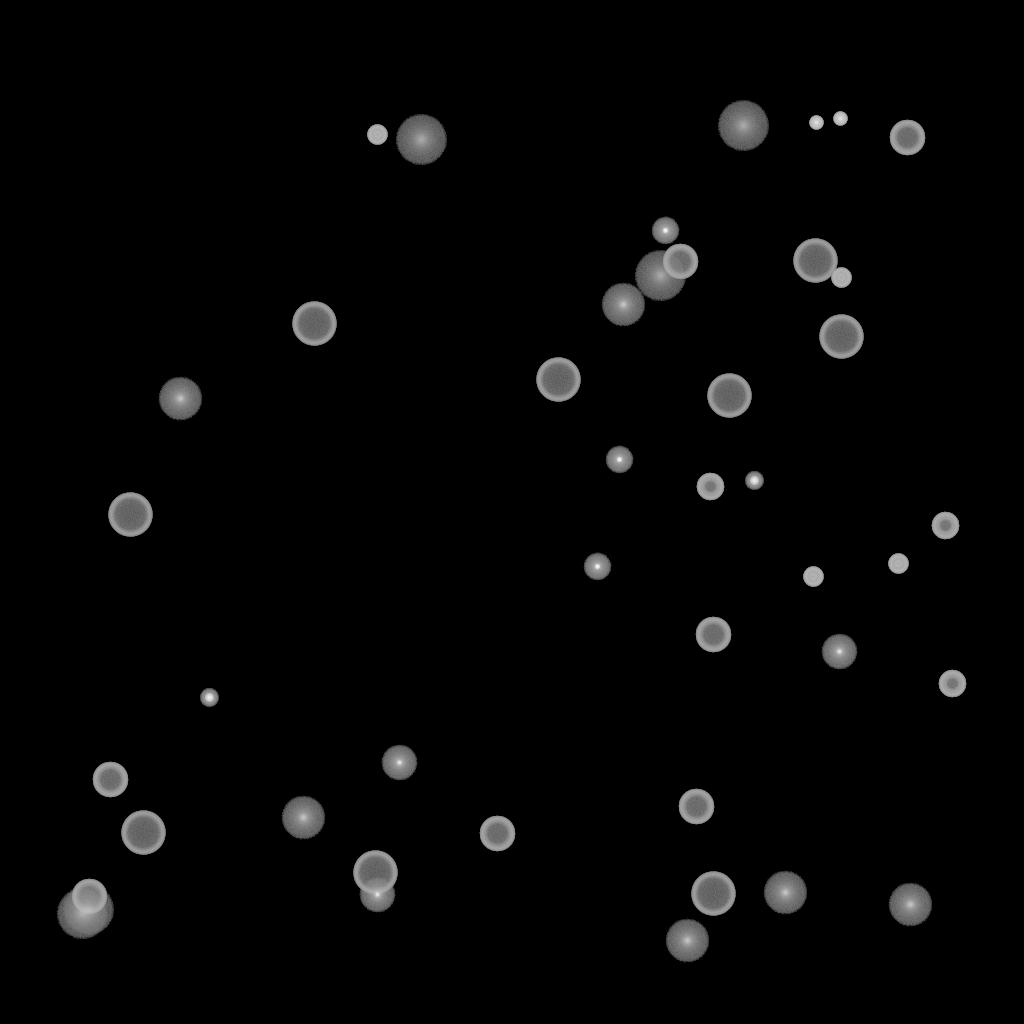depth:-10: (605, 446, 633, 474), (583, 553, 611, 581), (651, 217, 679, 245)
depth:-20: (745, 472, 763, 490), (200, 689, 218, 707)
depth:-30: (833, 112, 847, 126), (809, 116, 823, 130)
depth:-40: (367, 125, 387, 145), (803, 567, 823, 587), (831, 268, 851, 288), (888, 554, 908, 574)
depth:-50: (938, 670, 966, 698), (696, 473, 724, 501), (931, 512, 959, 540)
depth:-60: (695, 617, 731, 653), (92, 762, 128, 798), (71, 879, 107, 915), (889, 120, 925, 156), (662, 244, 698, 280), (678, 789, 714, 825), (479, 816, 515, 852)
depth:-70: (691, 872, 735, 916), (353, 851, 397, 895), (793, 239, 837, 283), (707, 374, 751, 418), (108, 493, 152, 537), (536, 358, 580, 402), (292, 302, 336, 346), (121, 811, 165, 855), (819, 315, 863, 359)
depth:0: (359, 877, 395, 913), (381, 745, 417, 781), (821, 634, 857, 670)
depth:10: (601, 283, 645, 327), (158, 377, 202, 421), (888, 883, 932, 927), (281, 796, 325, 840), (763, 871, 807, 915), (665, 919, 709, 963)
depth:20: (56, 889, 108, 939), (395, 115, 447, 165), (717, 101, 769, 151), (634, 251, 686, 301), (62, 885, 114, 935)
